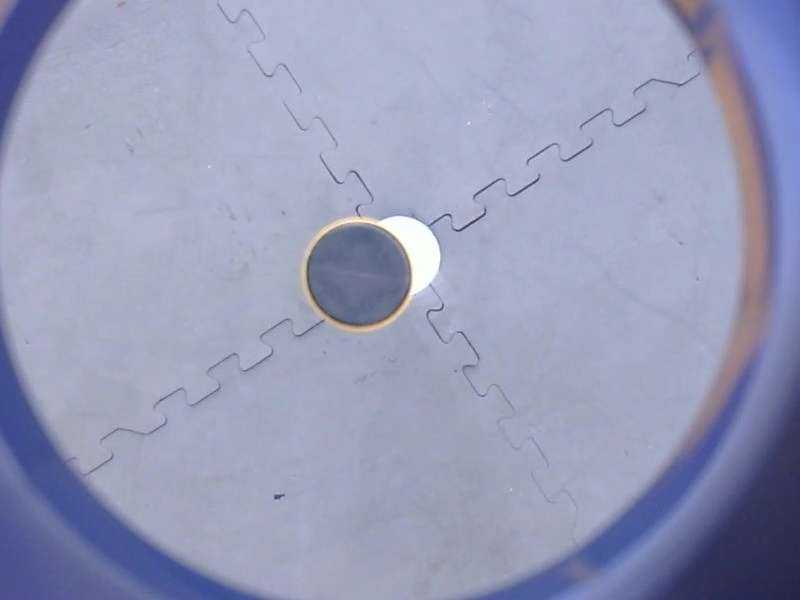tip: (297, 211, 419, 335)
